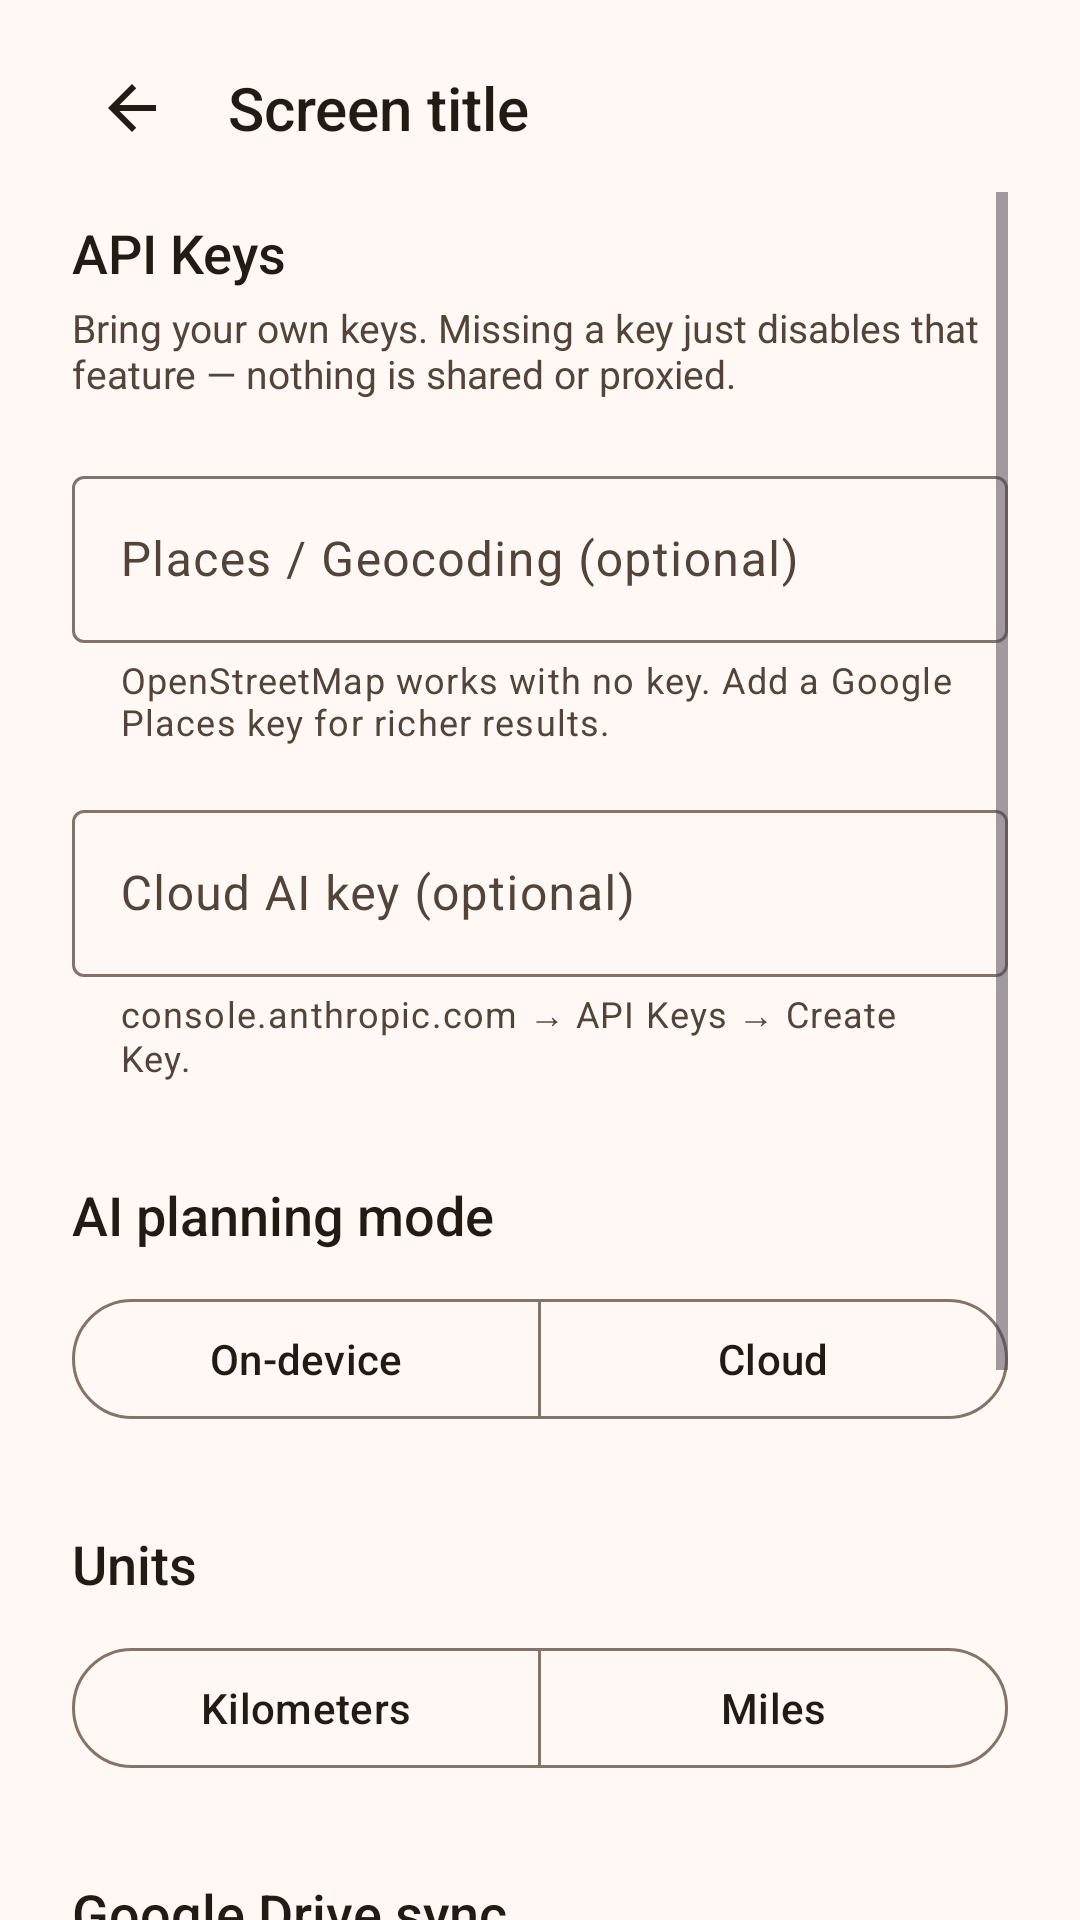

Point at icon controls on the screen. Image size 1080px x 1920px, points as (x,y).
Back: (132,108)
